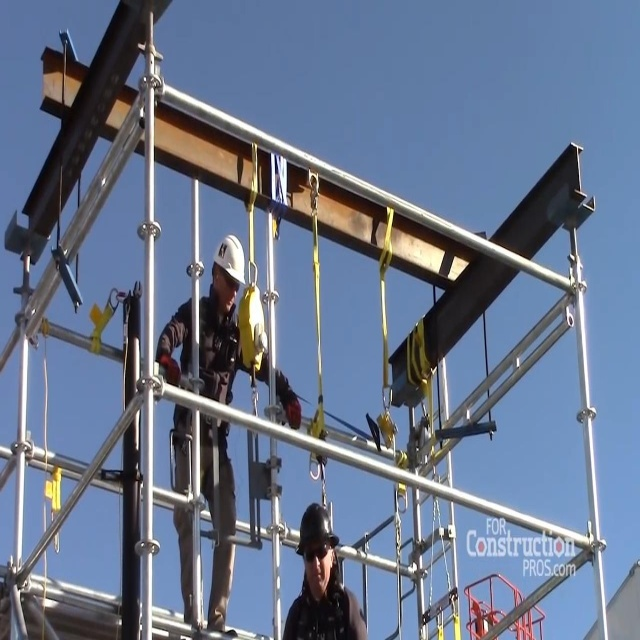Arnes_seguridad: (178, 285, 242, 494), (287, 488, 350, 640)
